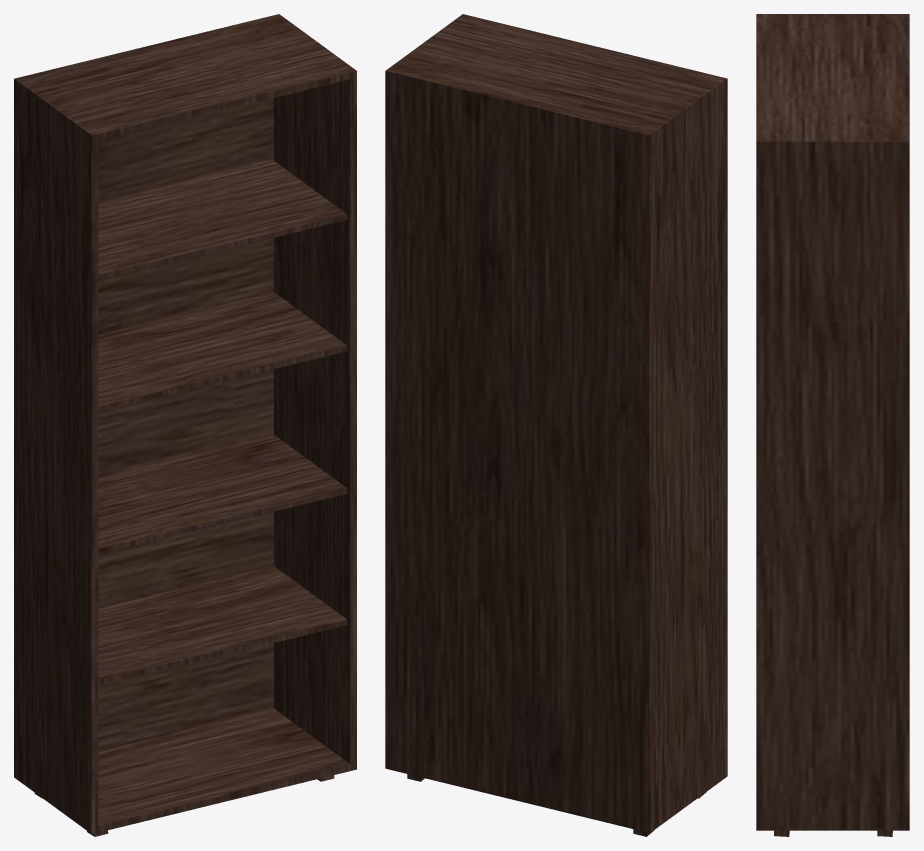
The model's file is SHELF OFFICE RACK.fbx.
The picture shows the model from 3 angles, left to right: view 1: azimuth 30°, elevation 25°; view 2: azimuth 150°, elevation 25°; view 3: azimuth 270°, elevation 25°; orthographic projection.
Visible parts, largest first — view 1: SHELF OFFICE RACK; view 2: SHELF OFFICE RACK; view 3: SHELF OFFICE RACK.
Part boxes in pixels (<box>): SHELF OFFICE RACK: <box>14,14,356,836</box>; SHELF OFFICE RACK: <box>385,14,727,836</box>; SHELF OFFICE RACK: <box>756,14,909,836</box>.
Size of the model in its own units: 50.42 by 129 by 25.59.
1 material, 1 textured.
